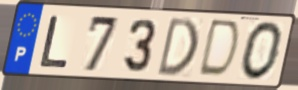3: (120, 17, 160, 74)
7: (85, 13, 119, 73)
D: (195, 17, 243, 81), (154, 15, 201, 78)
L: (37, 14, 71, 70)
O: (238, 20, 286, 83)
